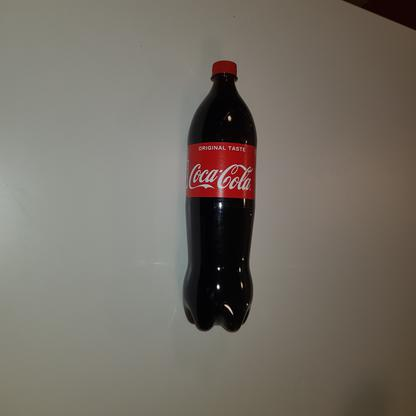coca-cola: (180, 58, 259, 337)
